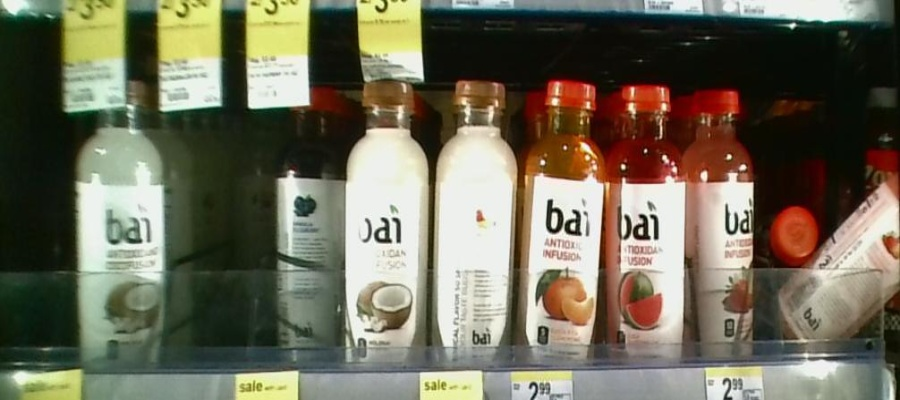bottle: (76, 78, 168, 373), (345, 64, 432, 363), (433, 69, 517, 375), (606, 65, 689, 370), (521, 62, 603, 362), (688, 75, 757, 363), (279, 89, 344, 358), (228, 93, 278, 310), (765, 193, 820, 339)
